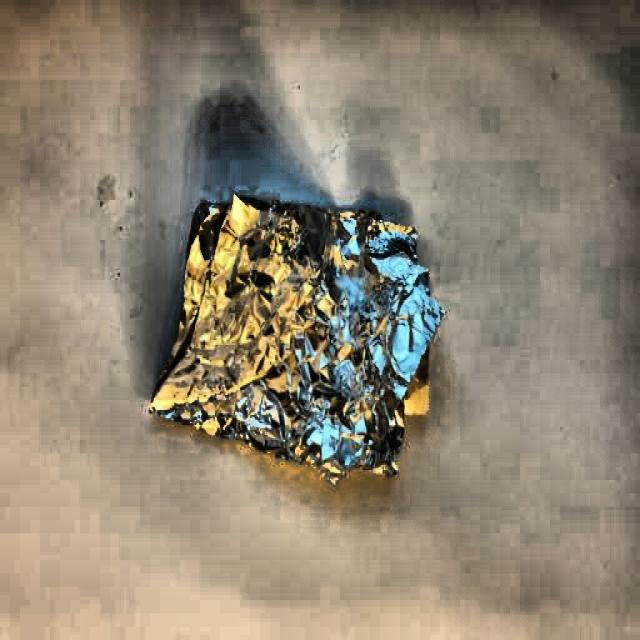metal: (151, 199, 447, 485)
